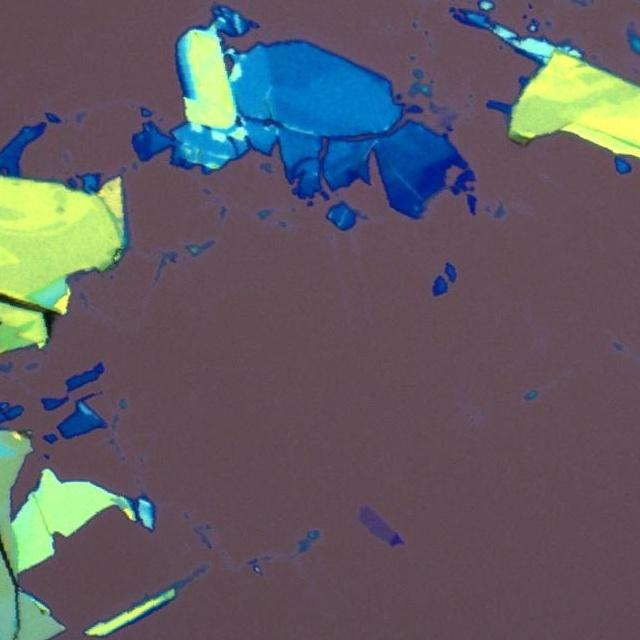monolayer-eWW4: (356, 504, 395, 544)
